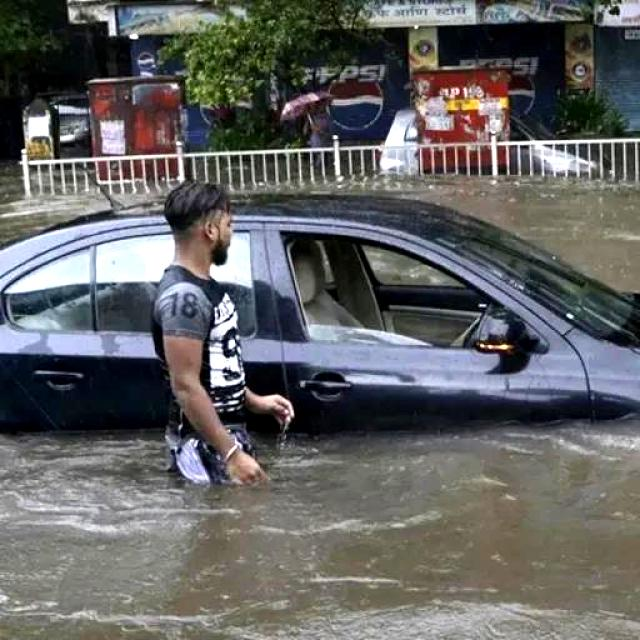civilian: (147, 171, 307, 509)
